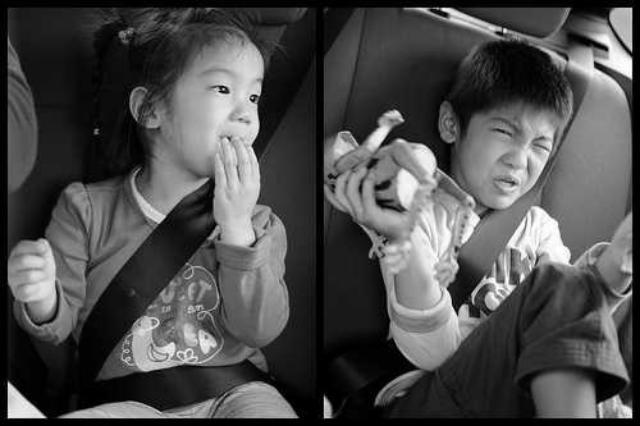SafeDriving: (202, 72, 238, 102), (486, 120, 518, 144), (525, 136, 554, 155)
Seatbelt: (75, 17, 318, 408), (442, 41, 600, 314)
